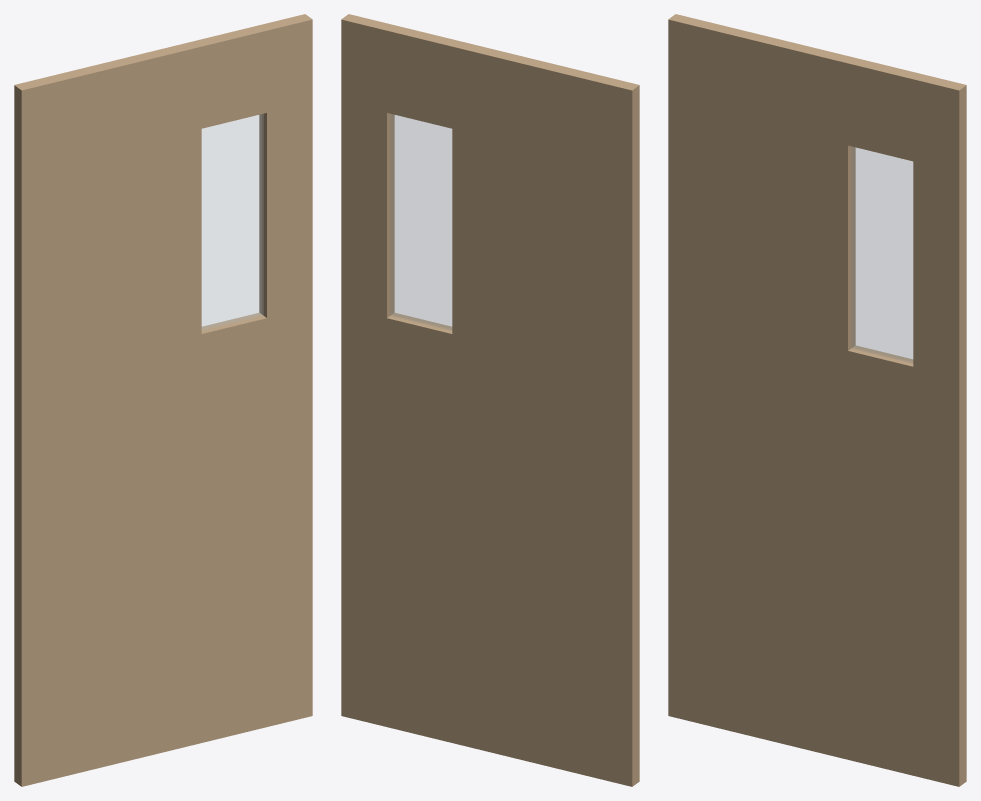
The model's file is SM_Build_Door_Classroom.fbx.
3 renders of one model, left to right at view 1: azimuth 30°, elevation 25°; view 2: azimuth 150°, elevation 25°; view 3: azimuth 330°, elevation 25°, orthographic.
Visible parts, largest first — view 1: SM_Build_Door_Classroom; view 2: SM_Build_Door_Classroom; view 3: SM_Build_Door_Classroom.
Part boxes in pixels (bbox=[...]): SM_Build_Door_Classroom: bbox=[14, 14, 312, 786]; SM_Build_Door_Classroom: bbox=[341, 14, 639, 786]; SM_Build_Door_Classroom: bbox=[668, 14, 966, 786].
Size of the model in its own units: 0.89 by 2.03 by 0.04.
